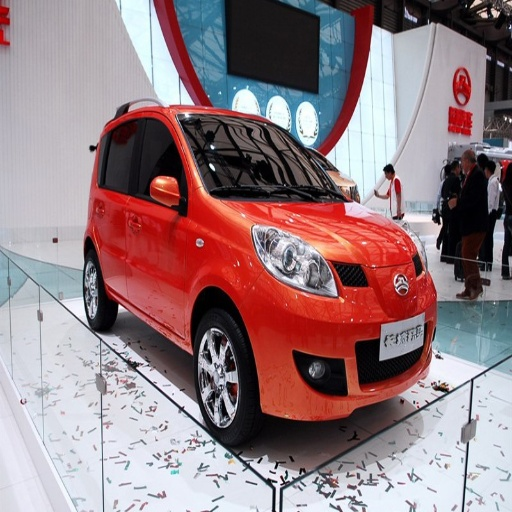front_bumper: (241, 256, 435, 419)
front_right_door: (127, 113, 188, 333)
front_right_light: (252, 223, 339, 297)
